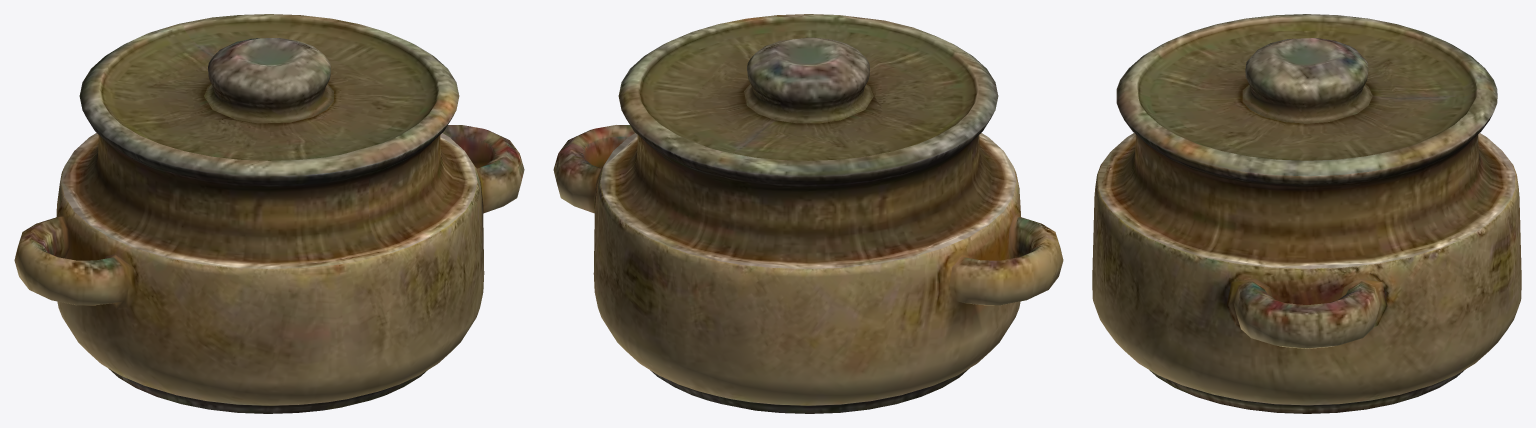
Rendered from tinaja_ceramica.glb.
3 views of the same model, side by side, from view 1: azimuth 30°, elevation 25°; view 2: azimuth 150°, elevation 25°; view 3: azimuth 270°, elevation 25° (orthographic).
Visible parts, largest first — view 1: ceramic_pot_1k(Clone); view 2: ceramic_pot_1k(Clone); view 3: ceramic_pot_1k(Clone).
Part boxes in pixels (left/top/right/bottom): ceramic_pot_1k(Clone): left=14, top=14, right=524, bottom=413; ceramic_pot_1k(Clone): left=553, top=14, right=1063, bottom=413; ceramic_pot_1k(Clone): left=1092, top=14, right=1521, bottom=413.
Size of the model in its own units: 0.6563 by 0.3717 by 0.5005.
1 material, 1 textured.
